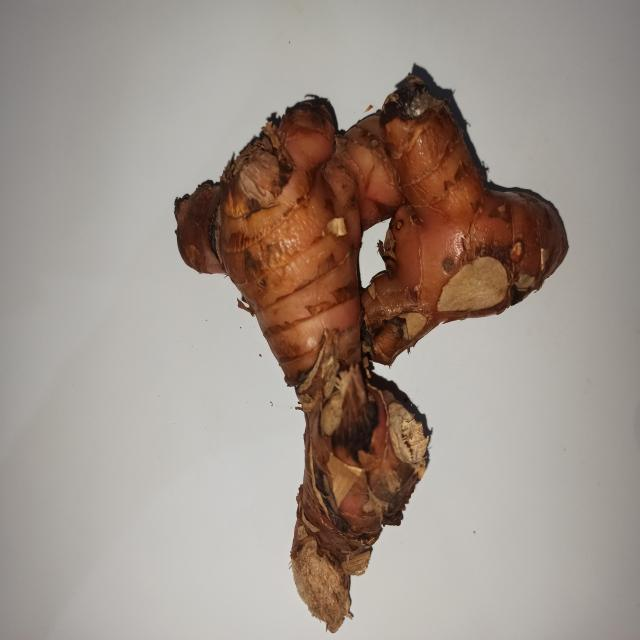ginger: (215, 76, 529, 593)
